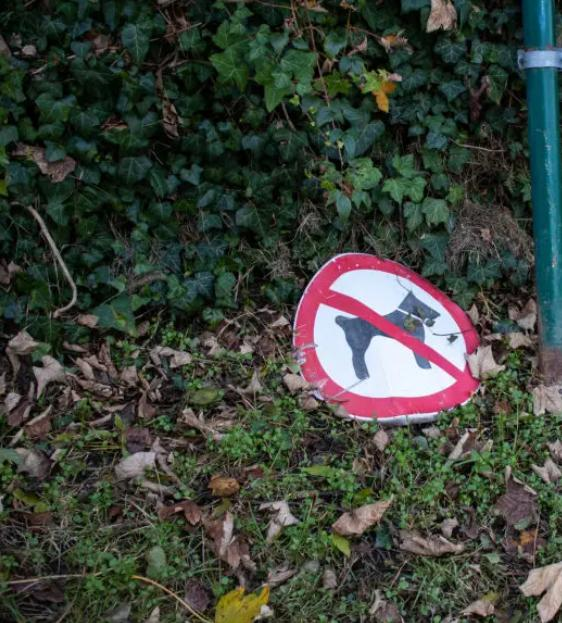obstructed_road_sign: (293, 253, 479, 423)
